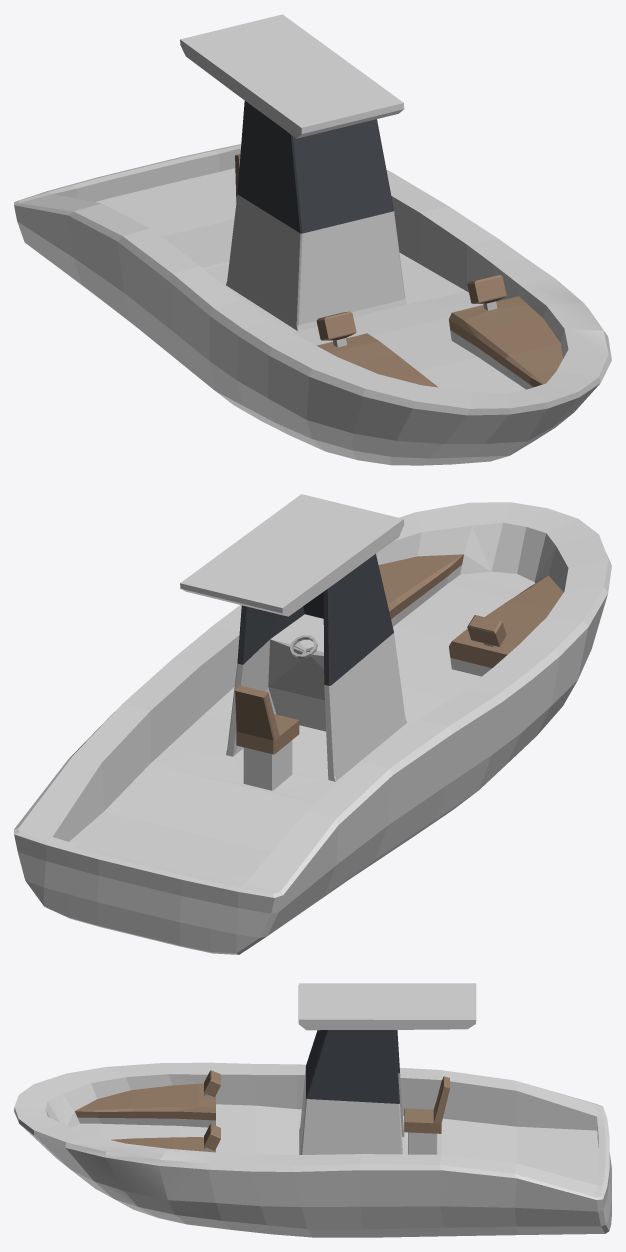
File: boat.fbx
3 views of the same model, one above another, from view 1: azimuth 30°, elevation 25°; view 2: azimuth 150°, elevation 25°; view 3: azimuth 270°, elevation 25° (orthographic). The views are drawn at different scales.
Visible parts, largest first — view 1: boat; view 2: boat; view 3: boat.
Boxes of the visible parts, <box> form: boat: <box>14,14,611,465</box>; boat: <box>14,494,611,954</box>; boat: <box>14,983,611,1237</box>.
Size of the model in its own units: 563 by 1361 by 505.
